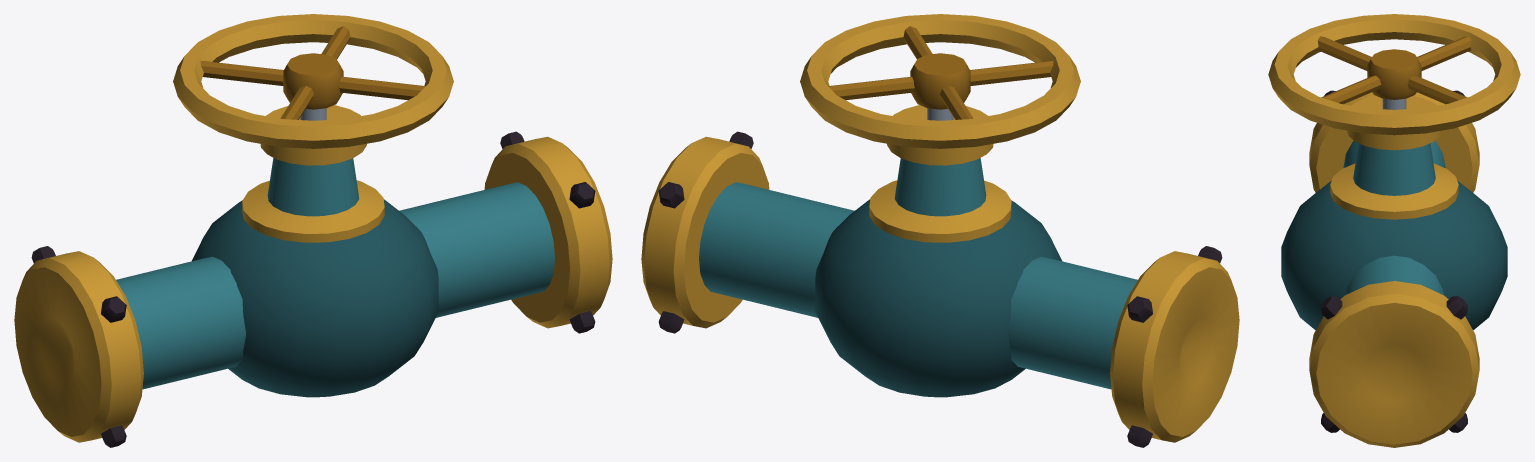
Rendered from Valve_31.glb.
The picture shows the model from 3 angles, left to right: view 1: azimuth 30°, elevation 25°; view 2: azimuth 150°, elevation 25°; view 3: azimuth 270°, elevation 25°; orthographic projection. The views are drawn at different scales.
Parts seen in each view (by area): view 1: Valve_31; view 2: Valve_31; view 3: Valve_31.
Part boxes in pixels (x1=…): Valve_31: x1=14, y1=14, x2=612, y2=447; Valve_31: x1=641, y1=14, x2=1239, y2=447; Valve_31: x1=1268, y1=14, x2=1520, y2=447.
Bounding box in the file's own units: 3.13 × 1.87 × 1.49.
